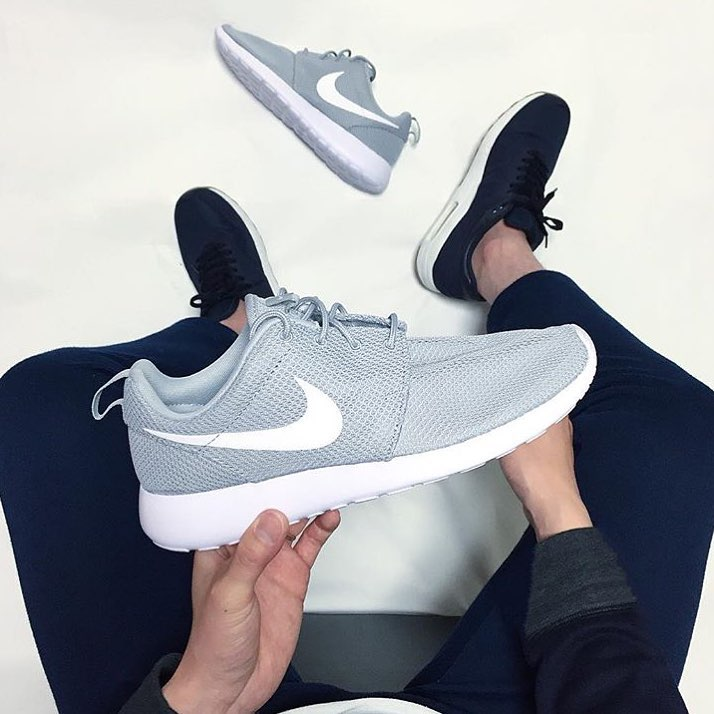sneaker: (398, 79, 587, 310), (146, 180, 310, 340)
